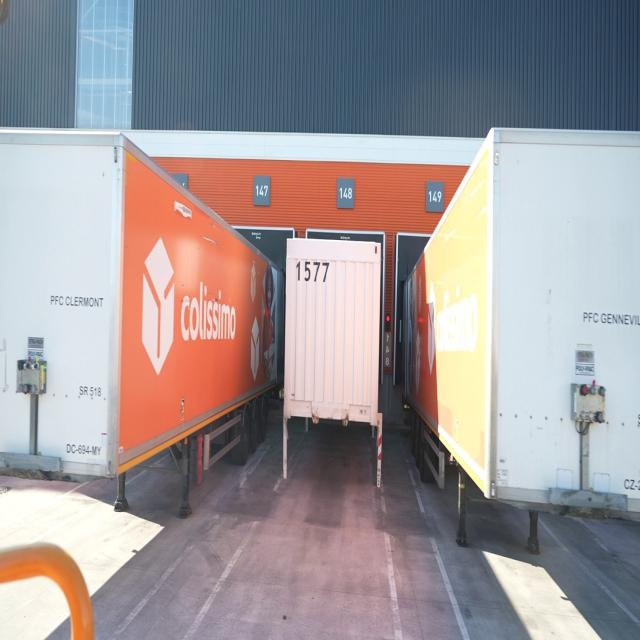Code: (293, 256, 332, 286)
